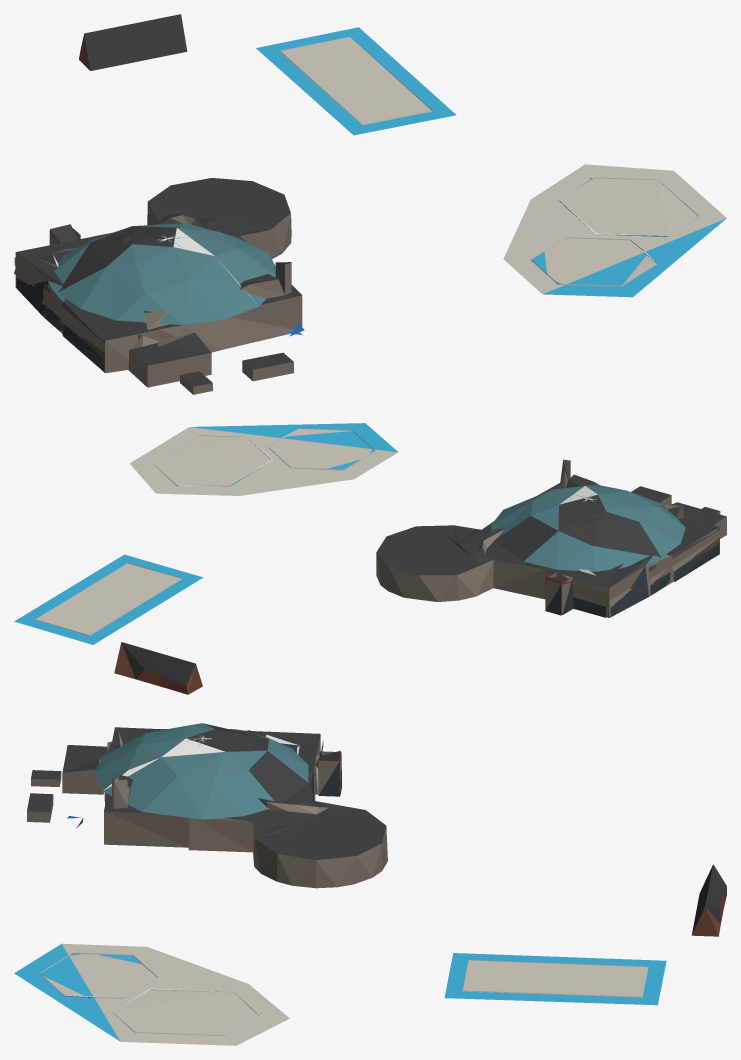
File: de-mirandabad.lod2.glb
3 renders of one model, top to bottom at view 1: azimuth 30°, elevation 25°; view 2: azimuth 150°, elevation 25°; view 3: azimuth 270°, elevation 25°, orthographic. The views are drawn at different scales.
Parts seen in each view (by area): view 1: lod2; view 2: lod2; view 3: lod2.
Boxes of the visible parts, x1,y1,x2,y2 form: lod2: (14,14,726,394); lod2: (14,423,726,694); lod2: (14,723,726,1045).
Bounding box in the file's own units: 191 × 21.25 × 200.
